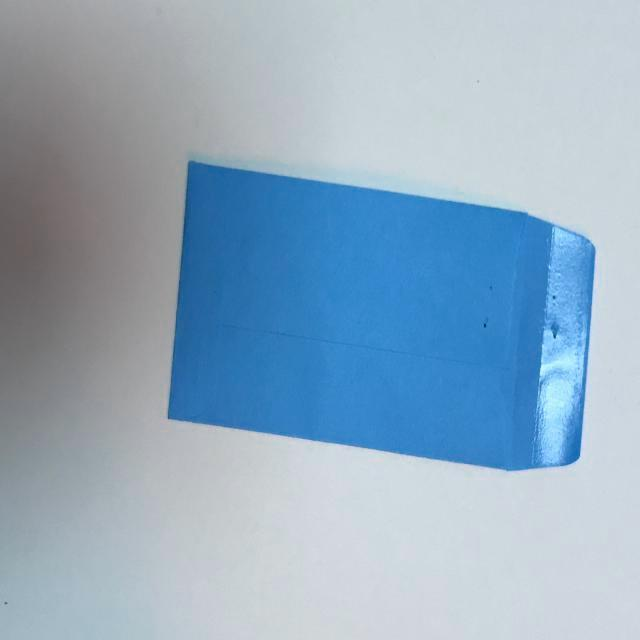paper: (163, 117, 622, 529)
